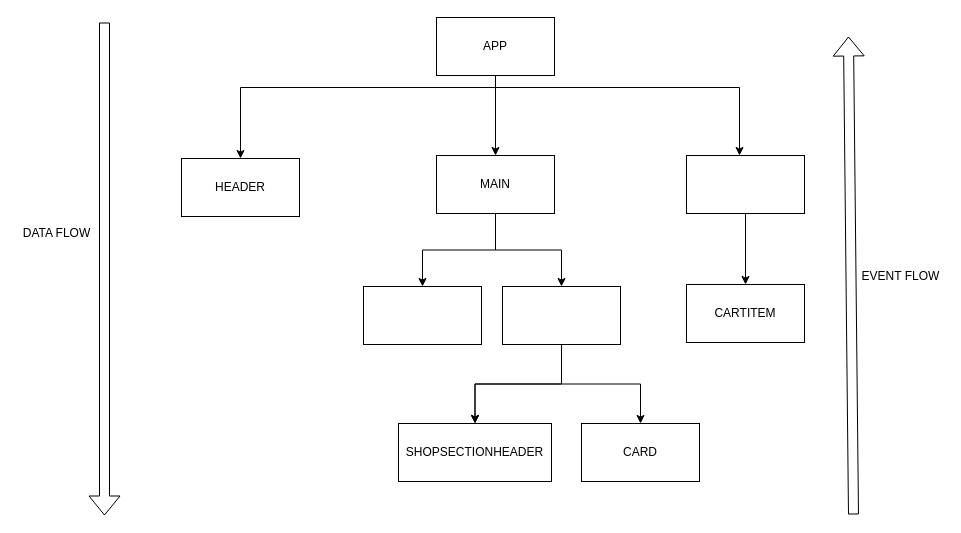
This 961x533 diagram has some shape labels left out. Here are the shapes that lost their labels. From the top down, the box of each, then its label:
(686, 154, 804, 214): CART
(362, 286, 482, 344): ASIDE
(502, 286, 620, 344): SHOPSECTION
